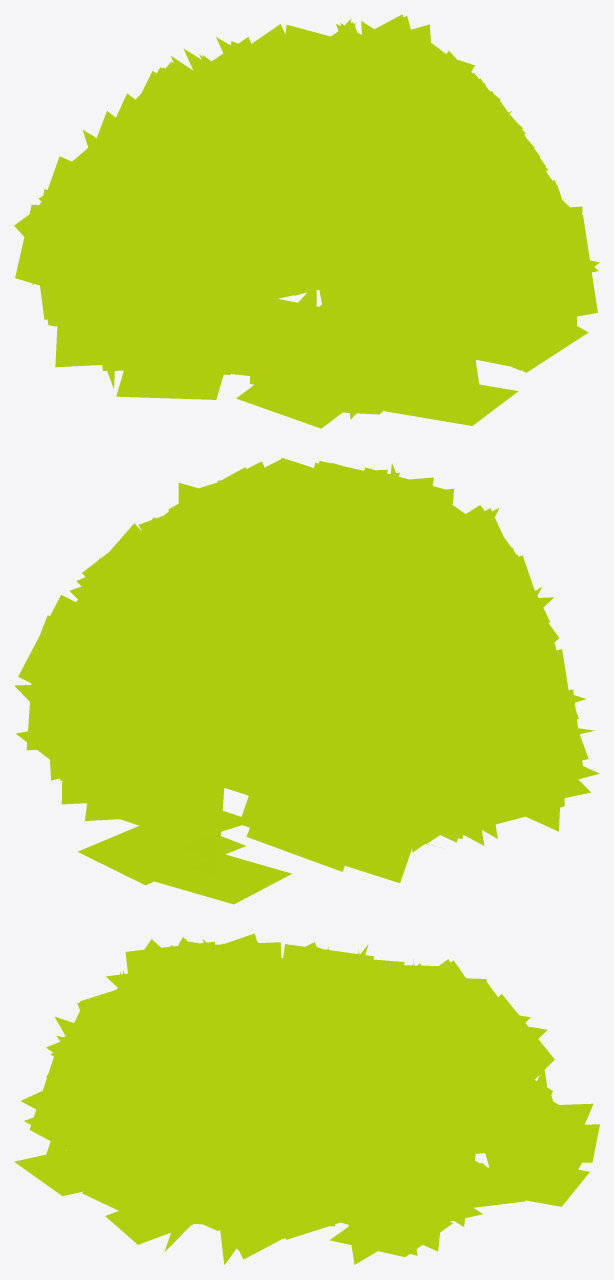
File: SM_Bush_A1.glb
The picture shows the model from 3 angles, top to bottom: view 1: azimuth 30°, elevation 25°; view 2: azimuth 150°, elevation 25°; view 3: azimuth 270°, elevation 25°; orthographic projection. The views are drawn at different scales.
Visible parts, largest first — view 1: SM_Bush_A1; view 2: SM_Bush_A1; view 3: SM_Bush_A1.
Boxes of the visible parts, x1,y1,x2,y2 form: SM_Bush_A1: (14, 14, 599, 428); SM_Bush_A1: (14, 457, 599, 904); SM_Bush_A1: (14, 933, 599, 1264).
Size of the model in its own units: 7.08 by 3.53 by 7.81.
1 material, 1 textured.
